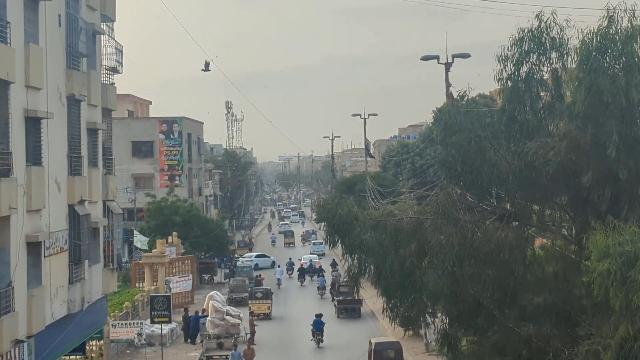Bike: (314, 331, 323, 348), (317, 286, 326, 302), (274, 277, 283, 291), (299, 275, 307, 288)
Person: (188, 310, 201, 347), (179, 305, 191, 345), (246, 310, 259, 345), (197, 306, 207, 340), (312, 312, 325, 331), (316, 272, 327, 288), (296, 262, 308, 276), (274, 264, 284, 279)
Rickshaw: (366, 336, 406, 360), (247, 286, 274, 321)
Suzuki: (331, 280, 365, 320), (226, 275, 250, 306)
